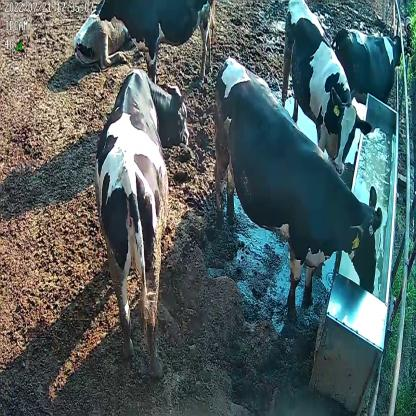cow: (212, 56, 384, 318), (96, 66, 188, 372), (280, 0, 373, 180), (96, 0, 217, 81), (333, 26, 404, 102)
